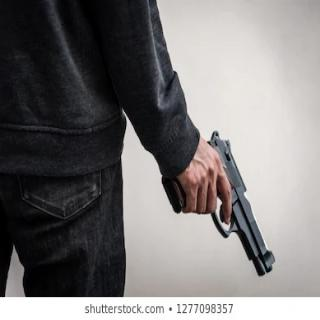gun: (177, 128, 273, 277)
